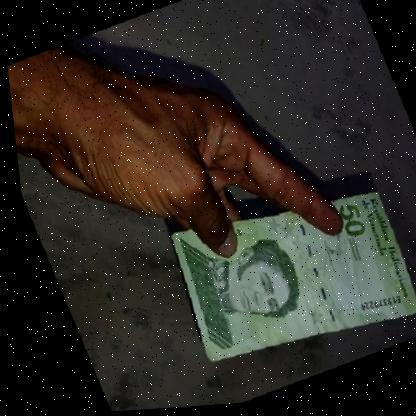fifty-front-vef: (154, 172, 416, 379)
